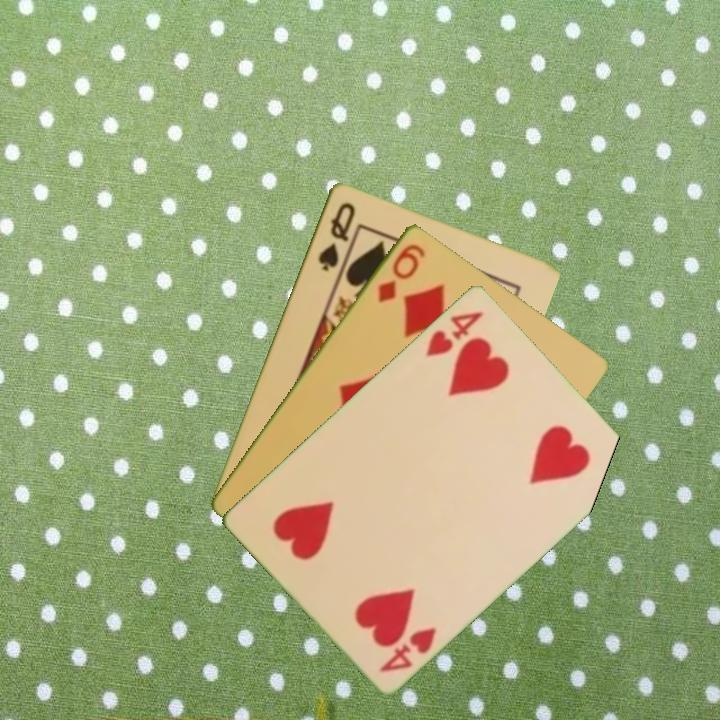4h: (422, 307, 487, 359), (375, 623, 440, 675)
6d: (374, 239, 429, 306)
Qs: (314, 198, 358, 274)
